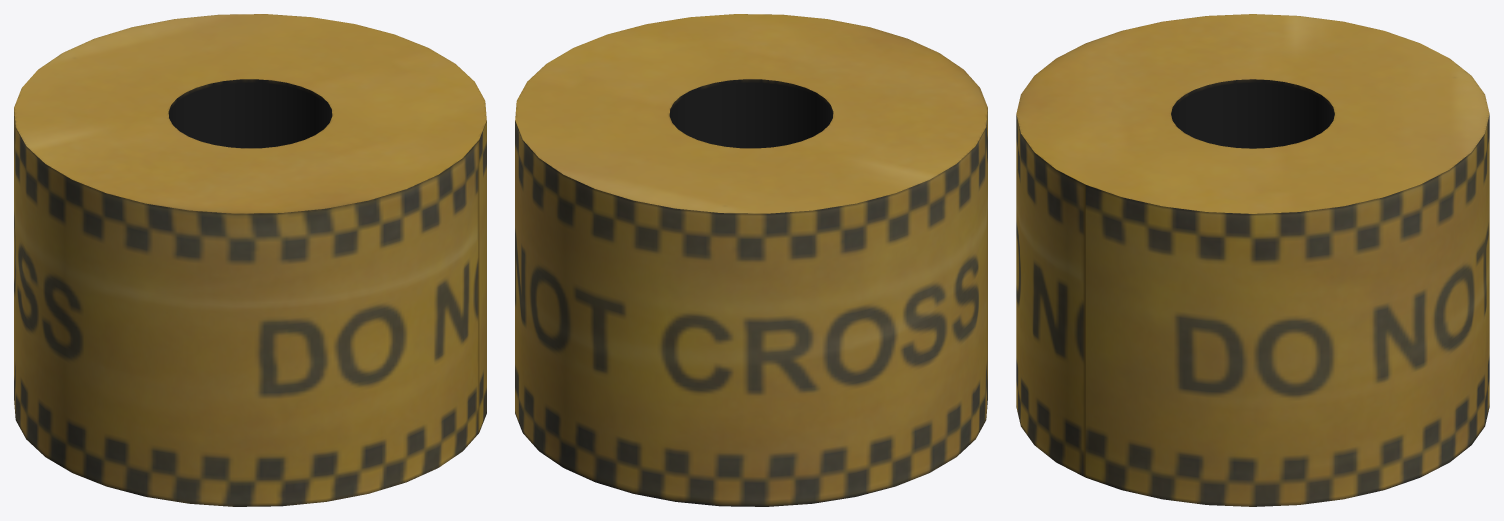
File: crime_tape_roll_01.fbx
3 renders of one model, left to right at view 1: azimuth 30°, elevation 25°; view 2: azimuth 150°, elevation 25°; view 3: azimuth 270°, elevation 25°, orthographic.
Parts seen in each view (by area): view 1: crime_tape_roll_01; view 2: crime_tape_roll_01; view 3: crime_tape_roll_01.
Boxes of the visible parts, box(x1,y1,x2,y2) form: crime_tape_roll_01: box(14, 14, 486, 506); crime_tape_roll_01: box(515, 14, 987, 506); crime_tape_roll_01: box(1016, 14, 1489, 506).
Bounding box in the file's own units: 31.23 × 21.33 × 31.23.
